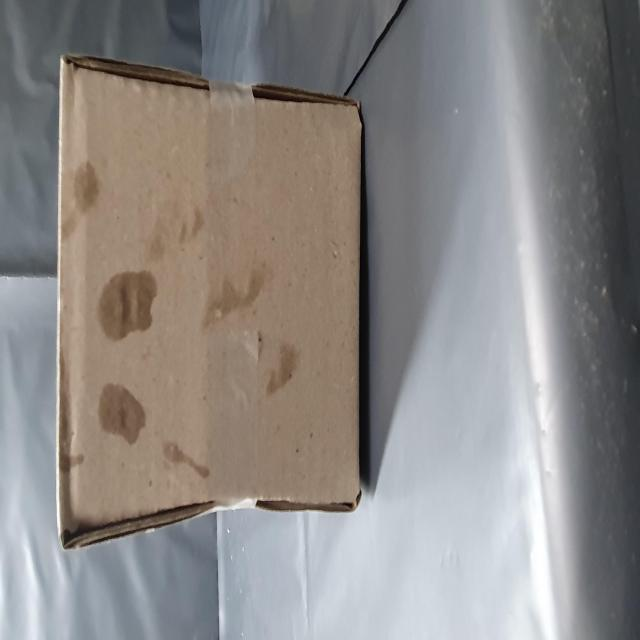wet: (56, 98, 276, 303)
